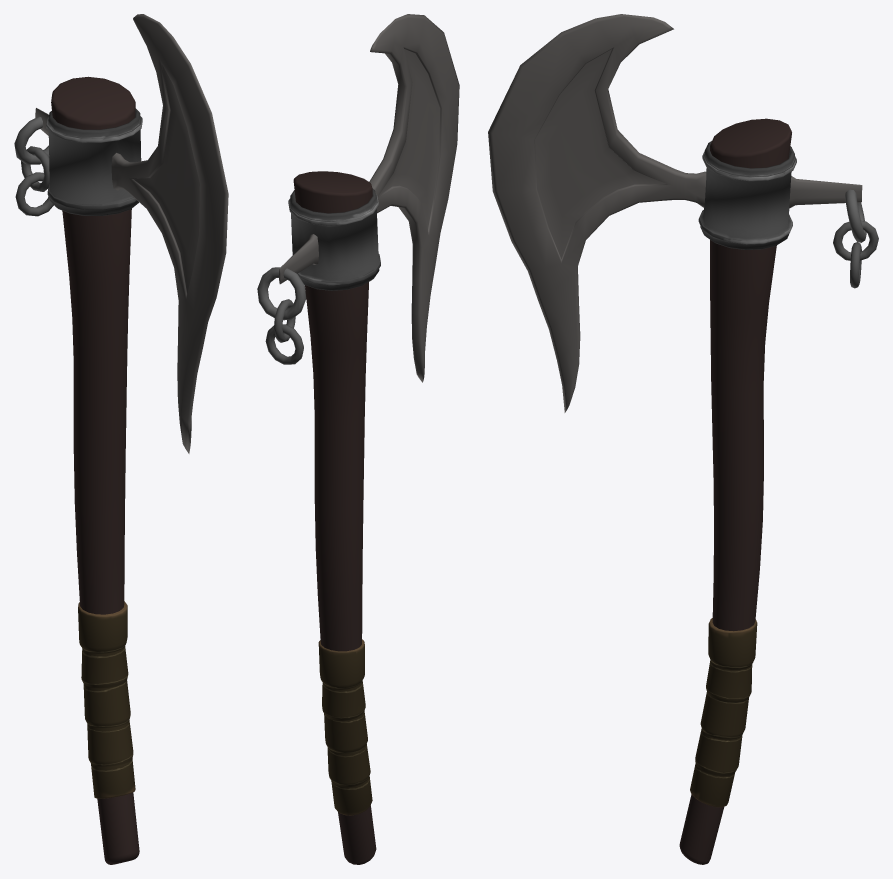
The model's file is balta_02.fbx.
3 renders of one model, left to right at view 1: azimuth 30°, elevation 25°; view 2: azimuth 150°, elevation 25°; view 3: azimuth 270°, elevation 25°, orthographic. The views are drawn at different scales.
Visible parts, largest first — view 1: Cylinder, Plane, Cylinder.002, Cylinder.001, Torus.001, Torus.003, Torus.002; view 2: Cylinder, Plane, Cylinder.002, Cylinder.001, Torus.001, Torus.003, Torus.002; view 3: Plane, Cylinder, Cylinder.002, Cylinder.001, Torus.002.
Part boxes in pixels (box(x1,y1,x2,y2)): Cylinder: box(51, 76, 139, 864); Plane: box(35, 14, 228, 453); Cylinder.002: box(78, 601, 135, 798); Cylinder.001: box(46, 108, 142, 215); Torus.001: box(14, 116, 49, 164); Torus.003: box(15, 172, 53, 216); Torus.002: box(21, 146, 49, 191); Cylinder: box(293, 171, 376, 864); Plane: box(279, 14, 459, 382); Cylinder.002: box(318, 639, 372, 815); Cylinder.001: box(288, 188, 380, 290); Torus.001: box(257, 267, 306, 320); Torus.003: box(265, 324, 303, 364); Torus.002: box(274, 299, 295, 342); Plane: box(488, 14, 862, 412); Cylinder: box(679, 118, 791, 864); Cylinder.002: box(690, 618, 757, 807); Cylinder.001: box(698, 141, 796, 249); Torus.002: box(833, 220, 878, 260).
Bounding box in the file's own units: 20.65 × 203 × 84.65.
